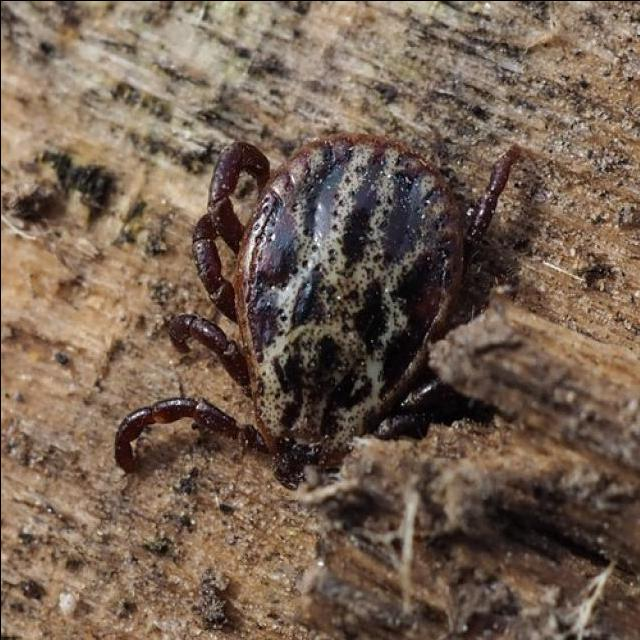Dermacentor Reticulatus-M: (114, 134, 552, 492)
